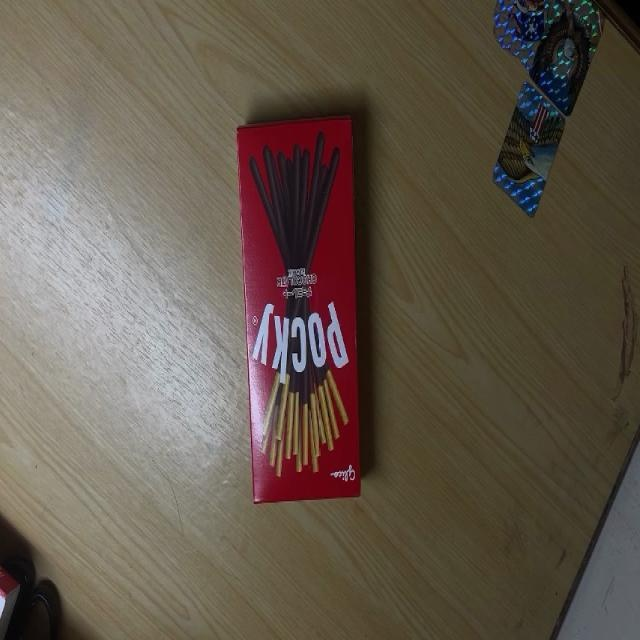Pocky: (236, 116, 365, 505)
